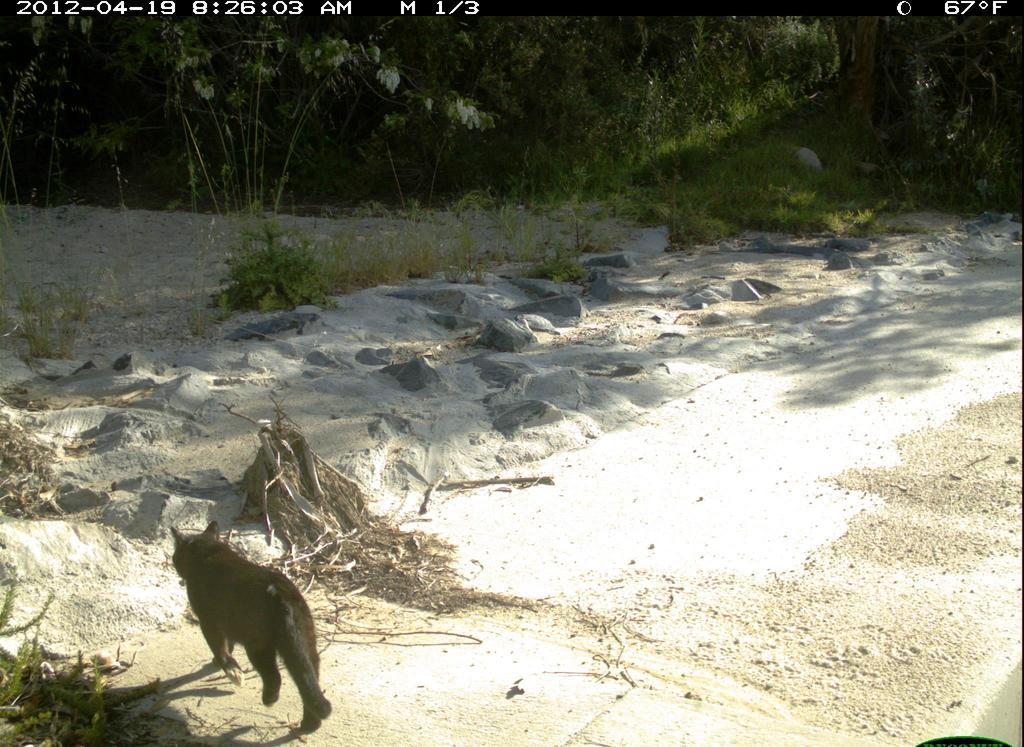cat: (146, 504, 349, 744)
